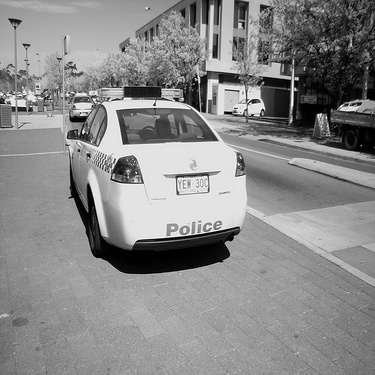car: (63, 83, 251, 265), (60, 89, 97, 121), (230, 94, 268, 119), (4, 89, 35, 112), (347, 93, 374, 118), (336, 97, 354, 114)
